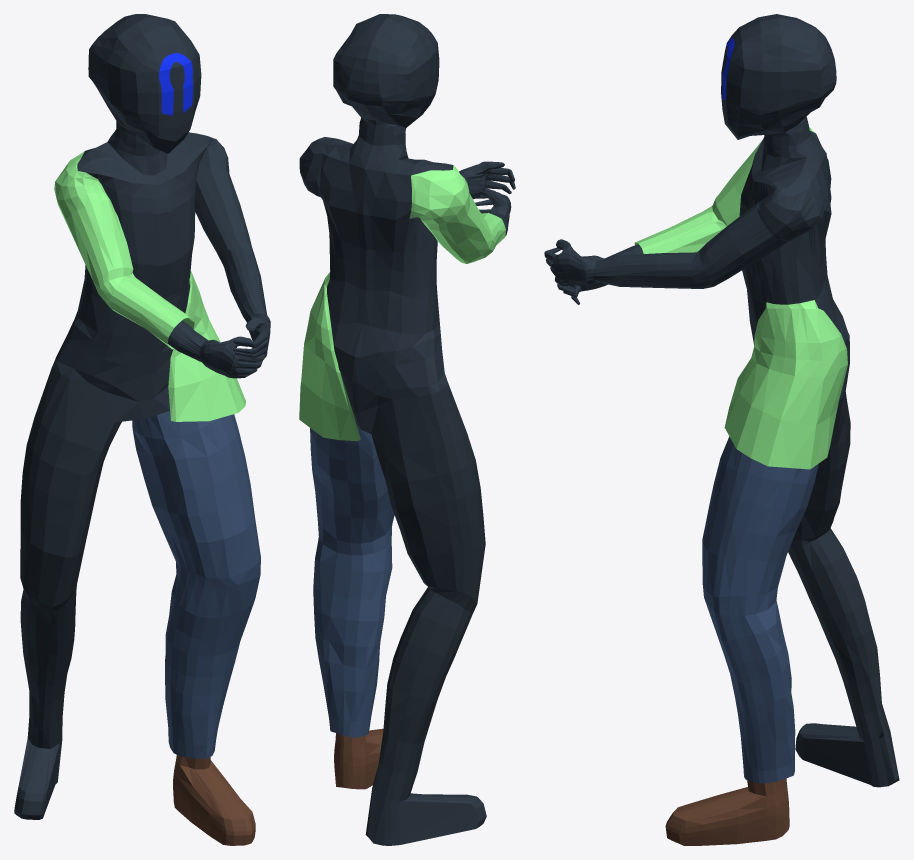
Rendered from Mar_WF_000012.obj.
3 views of the same model, side by side, from view 1: azimuth 30°, elevation 25°; view 2: azimuth 150°, elevation 25°; view 3: azimuth 270°, elevation 25° (orthographic).
Visible parts, largest first — view 1: Cube.000_Cube.001; view 2: Cube.000_Cube.001; view 3: Cube.000_Cube.001.
Boxes of the visible parts, x1,y1,x2,y2 form: Cube.000_Cube.001: [14, 14, 270, 845]; Cube.000_Cube.001: [299, 14, 515, 845]; Cube.000_Cube.001: [544, 14, 899, 845].
Bounding box in the file's own units: 1.06 × 3.89 × 1.57.
